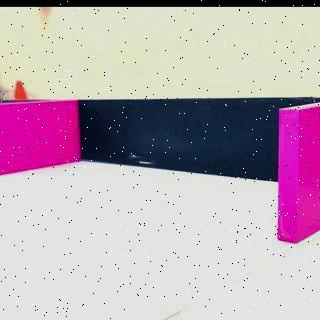xparking: (280, 110, 319, 238), (2, 105, 78, 167)
